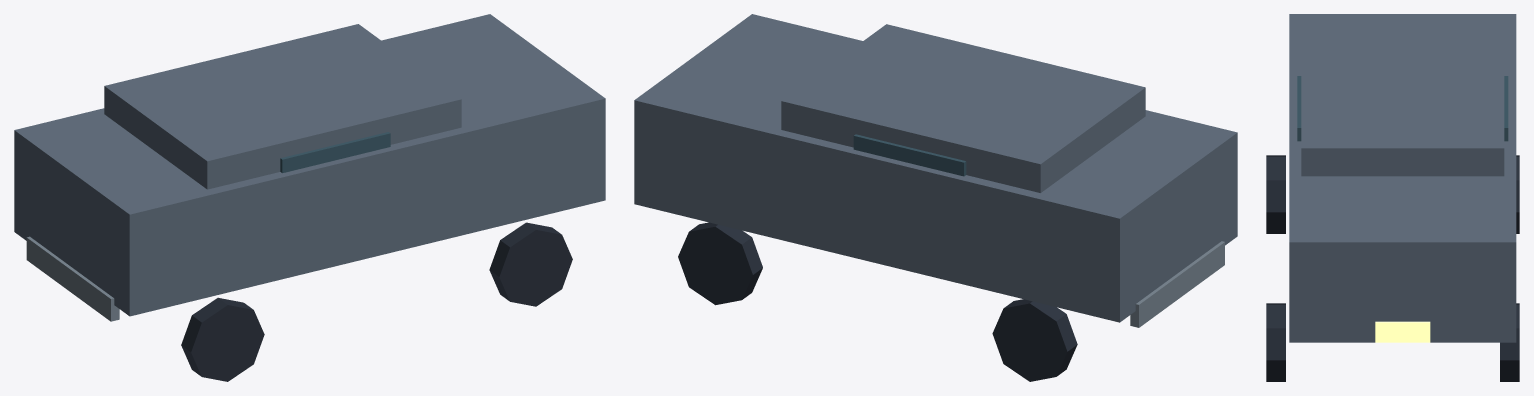
Rendered from car_boxy.glb.
3 views of the same model, side by side, from view 1: azimuth 30°, elevation 25°; view 2: azimuth 150°, elevation 25°; view 3: azimuth 270°, elevation 25° (orthographic). The views are drawn at different scales.
Parts seen in each view (by area): view 1: car_boxy; view 2: car_boxy; view 3: car_boxy.
Boxes of the visible parts, x1=… form: car_boxy: x1=14, y1=14, x2=605, y2=381; car_boxy: x1=634, y1=14, x2=1237, y2=381; car_boxy: x1=1266, y1=14, x2=1519, y2=381.
Size of the model in its own units: 4.45 by 1.84 by 2.06.
